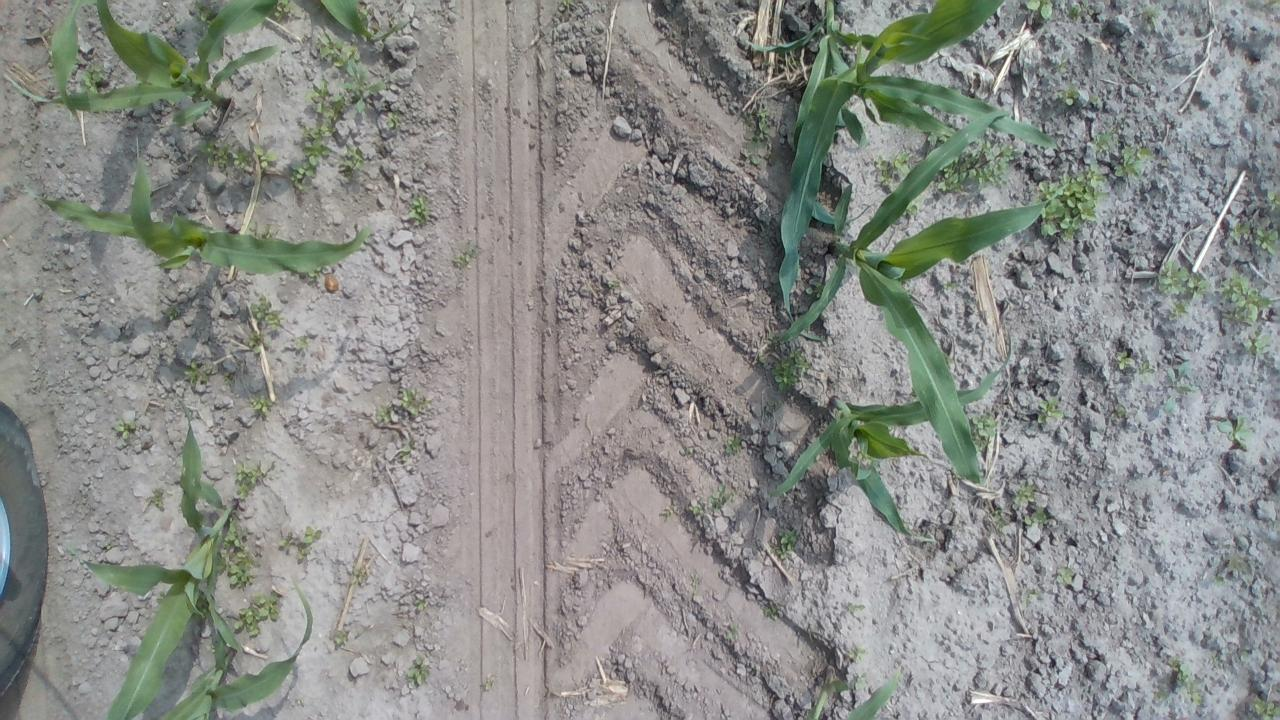Maize: (776, 109, 1064, 481), (778, 0, 1008, 305), (64, 393, 245, 720), (767, 334, 1014, 550), (1, 0, 411, 123), (24, 156, 370, 278), (734, 0, 1008, 154), (158, 577, 314, 720), (804, 660, 900, 720)
Weeds: (302, 30, 387, 118), (1034, 162, 1110, 242), (939, 139, 1019, 195), (286, 125, 337, 194), (1157, 258, 1211, 321), (1216, 268, 1272, 328), (221, 516, 258, 589), (198, 140, 278, 170), (233, 590, 280, 638), (1167, 652, 1202, 706), (772, 347, 813, 393), (738, 108, 770, 166), (272, 525, 323, 561), (873, 150, 913, 190), (1166, 364, 1196, 412), (1114, 144, 1156, 178), (250, 292, 284, 332), (966, 412, 999, 452), (233, 461, 266, 500), (336, 142, 366, 184), (1216, 413, 1248, 450), (76, 58, 105, 94), (399, 195, 430, 228), (406, 652, 434, 688), (706, 482, 736, 514), (183, 359, 217, 387), (771, 528, 800, 560), (1247, 695, 1280, 720), (186, 0, 214, 29), (1254, 226, 1280, 257), (1244, 329, 1272, 356), (1035, 398, 1065, 423), (452, 240, 478, 268), (1094, 126, 1120, 153), (1012, 477, 1036, 505), (1025, 0, 1057, 21), (247, 392, 274, 416), (112, 414, 136, 439), (1056, 84, 1081, 106), (900, 195, 923, 218), (1024, 506, 1048, 526), (248, 330, 268, 354), (274, 0, 297, 20), (1068, 0, 1089, 21), (1141, 3, 1163, 23), (990, 509, 1010, 530), (722, 434, 742, 455), (1114, 350, 1136, 369), (1263, 190, 1280, 214), (1229, 220, 1249, 240), (350, 564, 369, 585), (764, 398, 786, 415), (1137, 358, 1156, 377), (161, 302, 180, 321), (1055, 566, 1073, 585), (333, 629, 351, 648), (384, 110, 401, 130), (924, 131, 946, 146), (1021, 591, 1040, 608), (1227, 553, 1247, 569), (847, 646, 867, 662), (725, 622, 742, 640), (761, 606, 780, 620), (823, 156, 835, 178), (151, 486, 163, 508), (659, 505, 676, 520), (688, 503, 705, 518), (1110, 404, 1128, 418), (754, 350, 768, 368), (294, 334, 312, 348), (414, 592, 428, 610), (853, 672, 866, 690), (941, 278, 956, 293), (850, 450, 866, 464), (1152, 689, 1168, 702), (776, 125, 786, 145), (1238, 644, 1249, 662), (847, 602, 866, 612), (1266, 0, 1280, 13), (222, 372, 235, 386), (481, 678, 496, 690), (1059, 54, 1068, 72), (207, 636, 216, 654), (1206, 654, 1220, 664), (192, 46, 200, 62), (1090, 94, 1100, 105), (159, 672, 169, 683), (607, 280, 620, 288), (104, 541, 112, 551), (894, 670, 902, 680)
